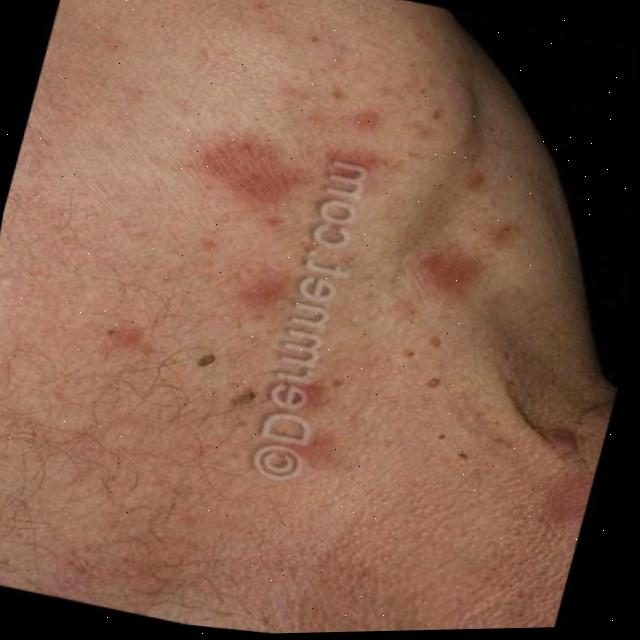Eczema: (77, 92, 562, 490)
